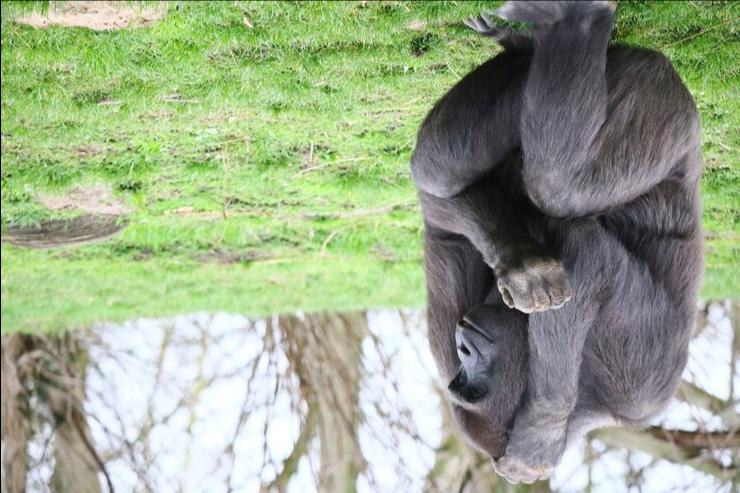gorille_Autres: (392, 0, 716, 492)
